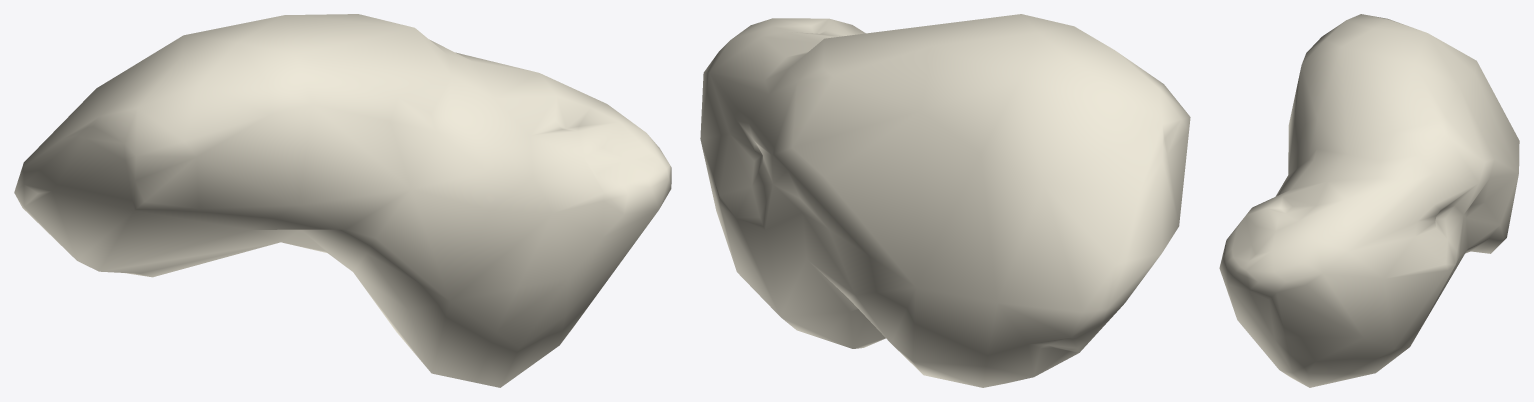
3 views of the same model, side by side, from view 1: azimuth 30°, elevation 25°; view 2: azimuth 150°, elevation 25°; view 3: azimuth 270°, elevation 25° (orthographic). The views are drawn at different scales.
Visible parts, largest first — view 1: ZA_dd59a0e4f0bed389; view 2: ZA_dd59a0e4f0bed389; view 3: ZA_dd59a0e4f0bed389.
Boxes of the visible parts, x1=… form: ZA_dd59a0e4f0bed389: x1=14, y1=14, x2=671, y2=387; ZA_dd59a0e4f0bed389: x1=700, y1=14, x2=1190, y2=387; ZA_dd59a0e4f0bed389: x1=1219, y1=14, x2=1519, y2=387.
Size of the model in its own units: 0.0246 by 0.0162 by 0.0159.
